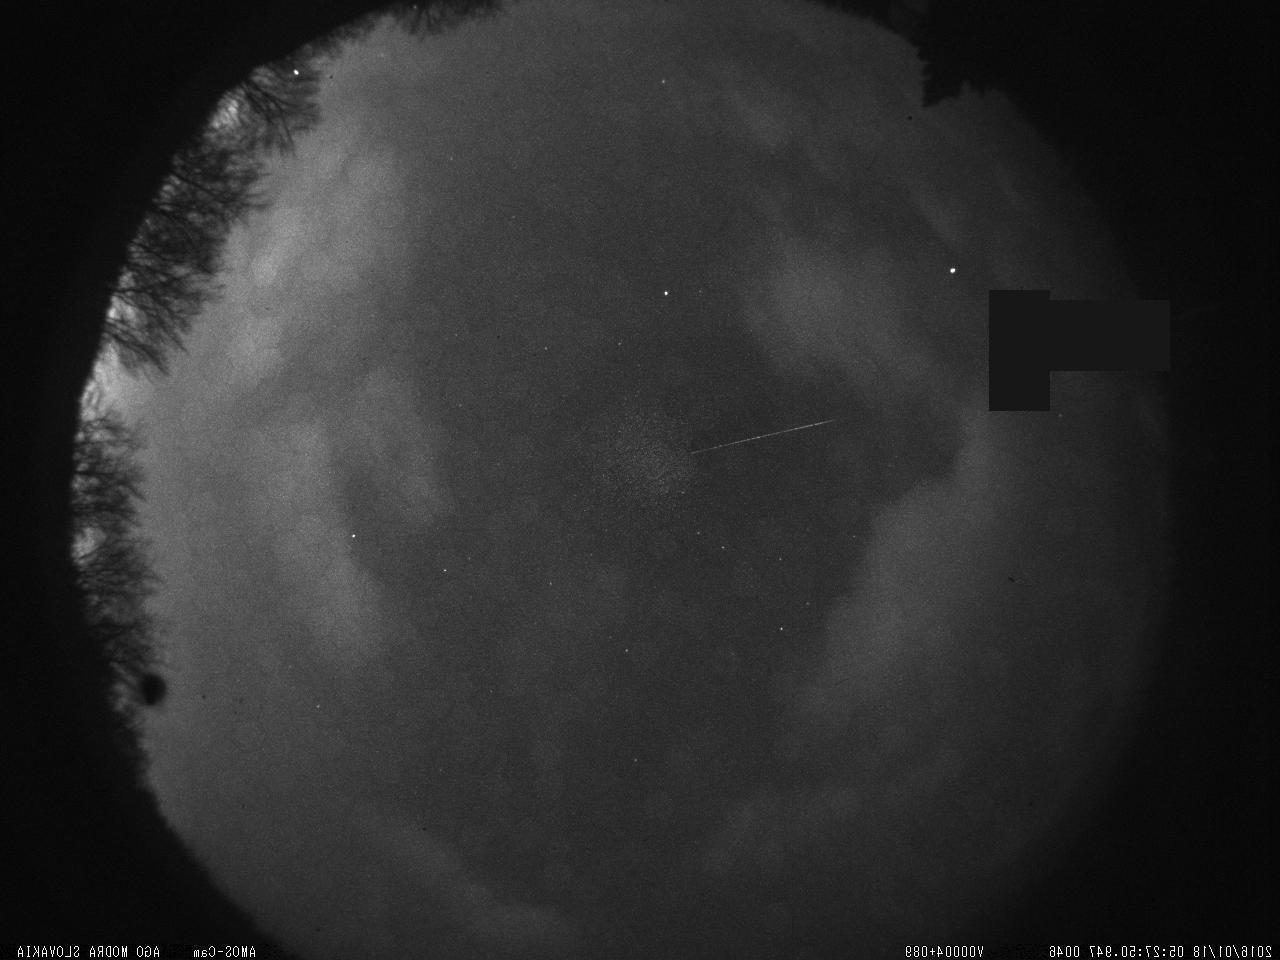meteor: (663, 395, 853, 468)
